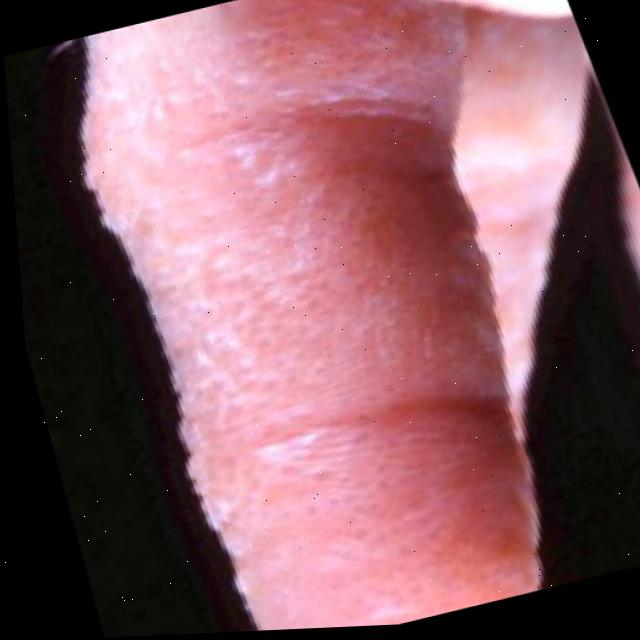Eczema: (96, 0, 567, 636)
